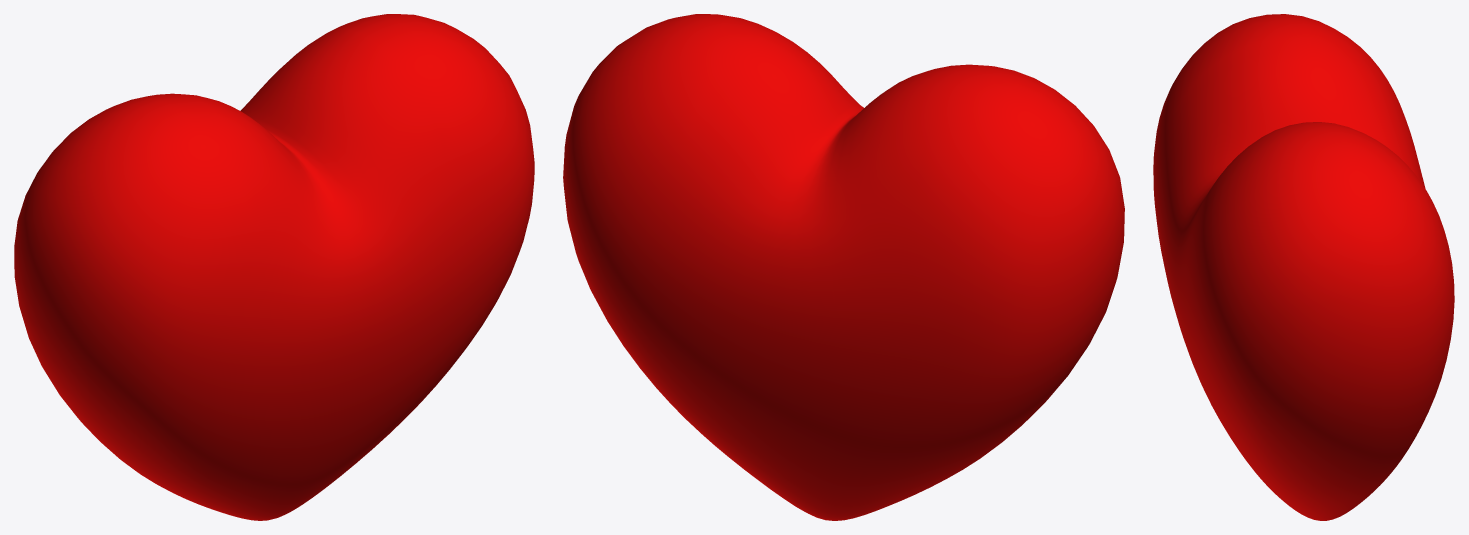
The model's file is asset.glb.
The picture shows the model from 3 angles, left to right: view 1: azimuth 30°, elevation 25°; view 2: azimuth 150°, elevation 25°; view 3: azimuth 270°, elevation 25°; orthographic projection. The views are drawn at different scales.
Parts seen in each view (by area): view 1: node_id10; view 2: node_id10; view 3: node_id10.
Boxes of the visible parts, x1,y1,x2,y2 form: node_id10: [14, 14, 534, 520]; node_id10: [563, 14, 1124, 520]; node_id10: [1153, 14, 1454, 520].
Bounding box in the file's own units: 2.25 × 1.98 × 1.24.
